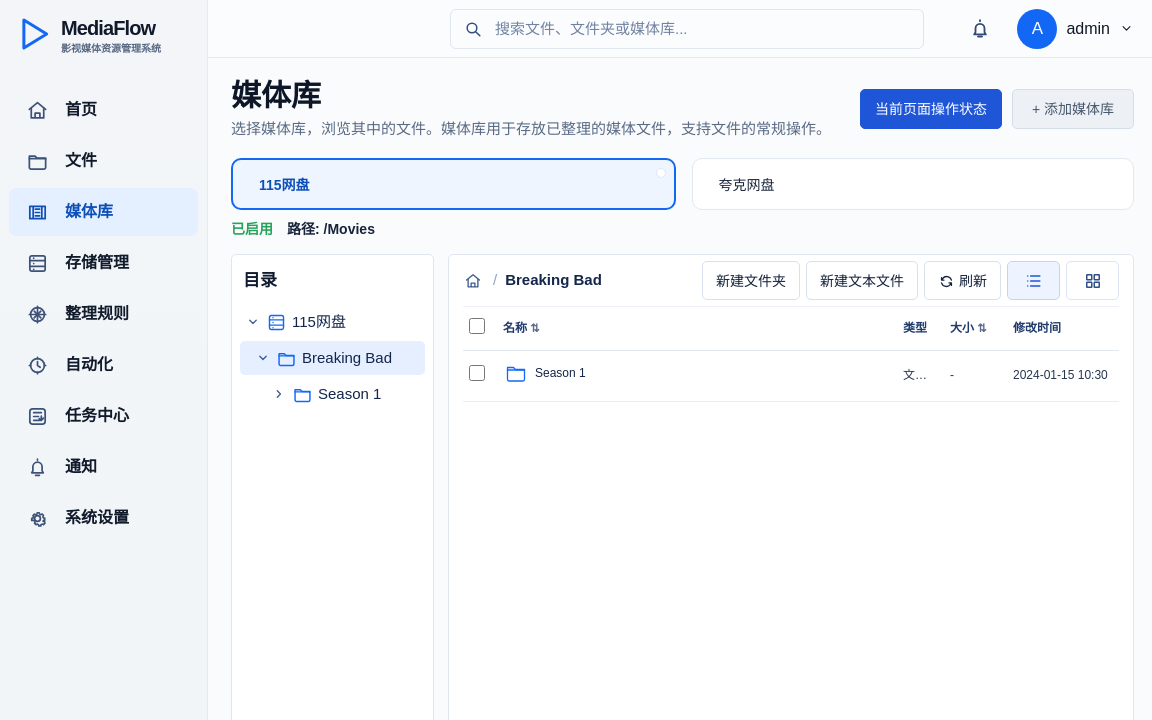
Scenario: MediaLibrary Files journey › switching library replaces the previous library's directory in the route
Expected: the row "Season 1 文件夹 - 2024-01-15 10:30" is shown, [463,350,1119,401]
Click the button "夸克网盘".
click(746, 185)  # box [692,160,1133,208]
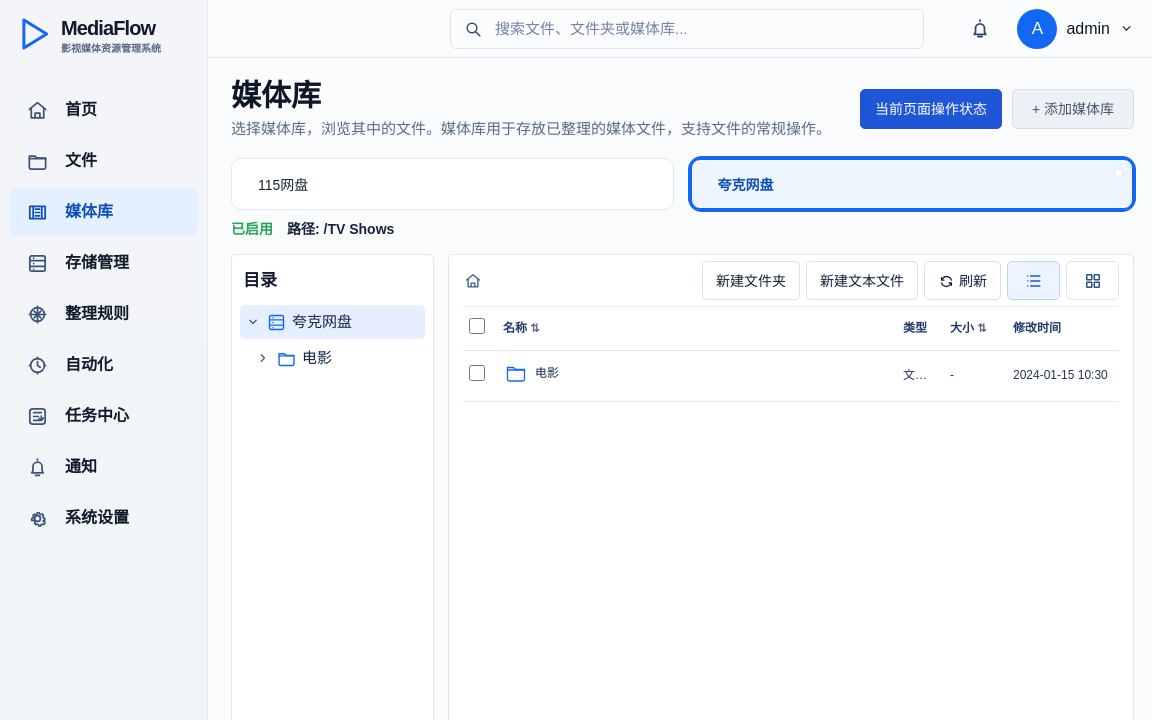
Expected: the row "电影 文件夹 - 2024-01-15 10:30" is shown, [463,350,1119,401]
